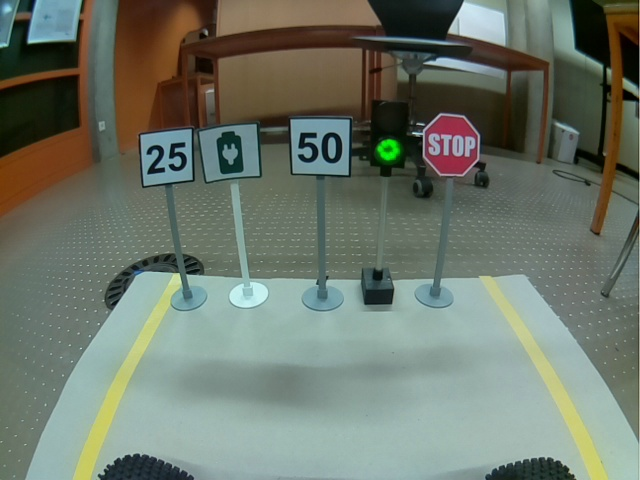battery: (197, 121, 262, 184)
speed25: (138, 125, 195, 188)
speed50: (288, 115, 352, 178)
stop: (422, 113, 480, 176)
trafficLightGreen: (370, 99, 407, 169)
